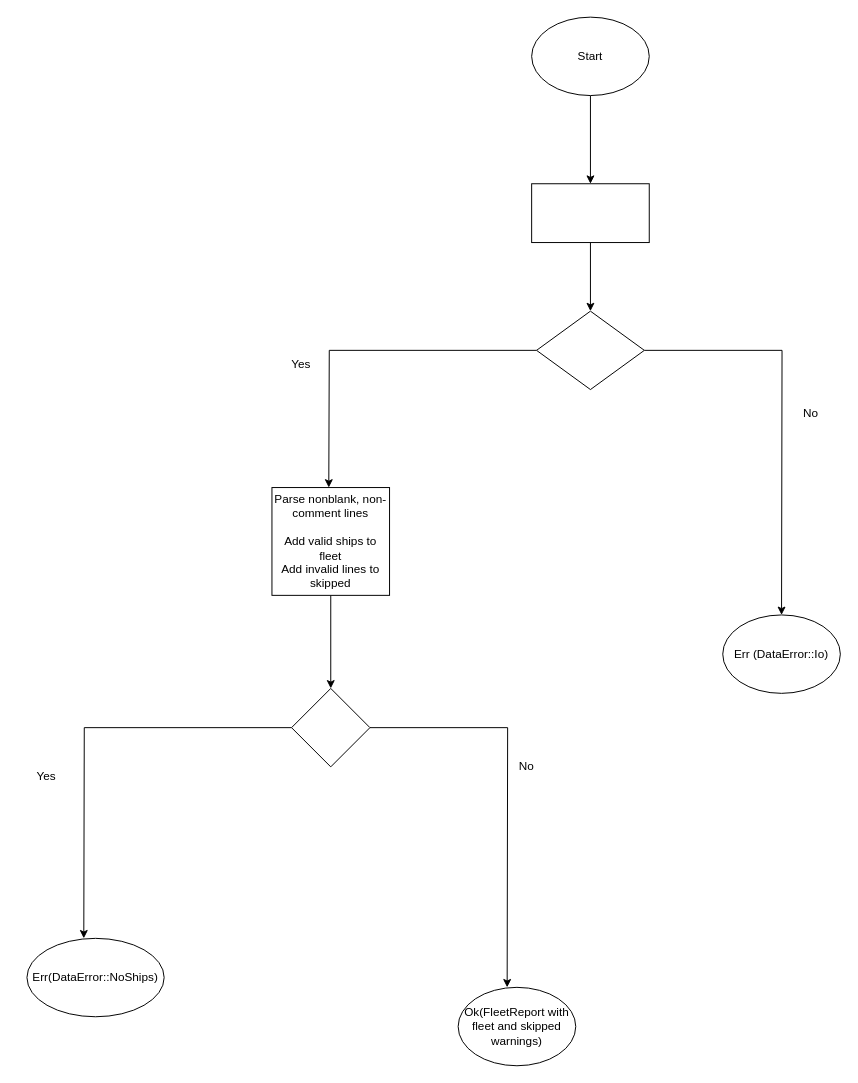
The diagram is 858 pixels wide and 1083 high, and some of its shapes have lost their labels. Each missing label, with the box of its shape:
File read successfully?: (536, 310, 644, 390)
Fleet empty?: (291, 687, 370, 767)
Read fleet file: (531, 183, 649, 243)
